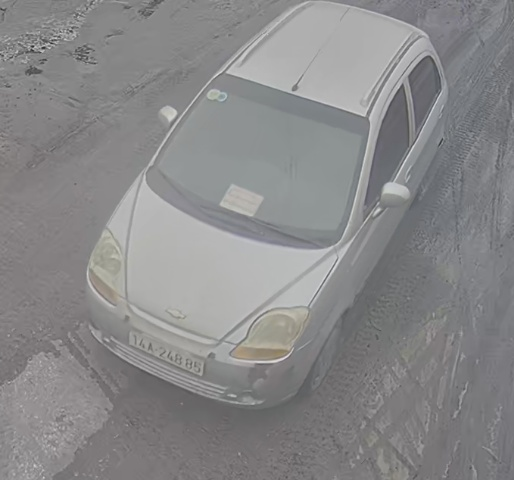vehicle plate: (124, 327, 214, 382)
